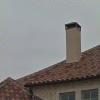Chimney: (56, 16, 89, 63)
